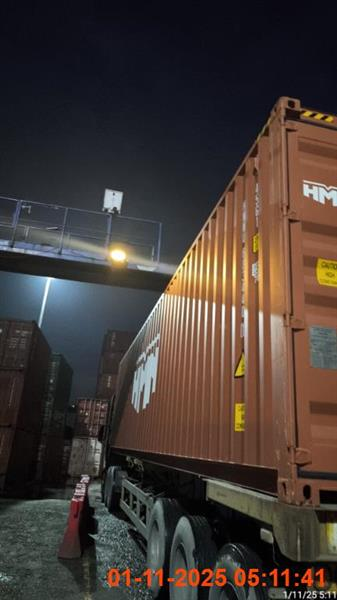broken: (98, 98, 334, 596)
